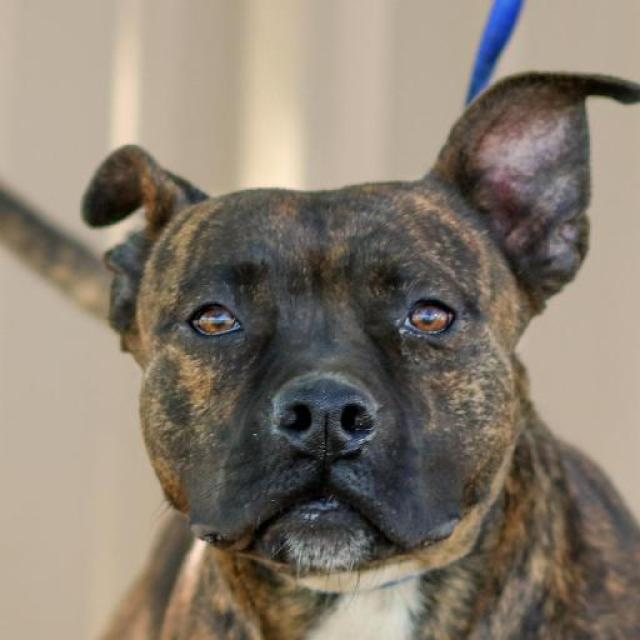relax: (68, 78, 628, 569)
